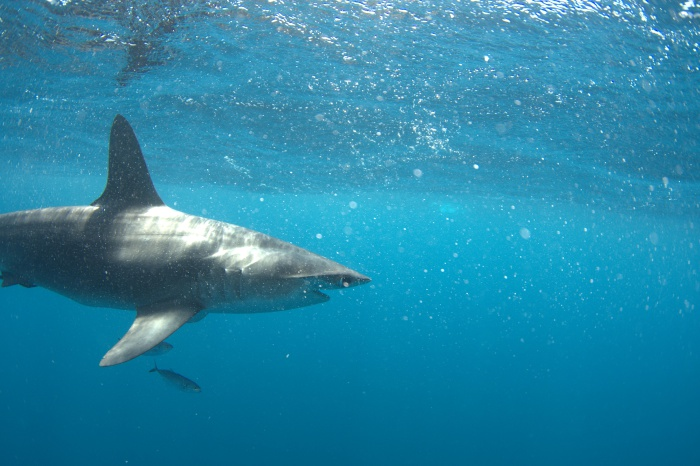Hammer: (1, 95, 410, 381)
